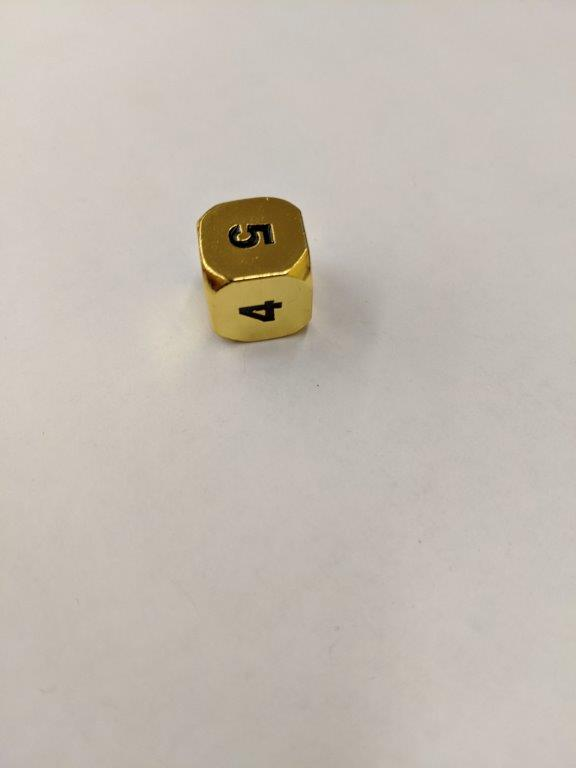d6-5: (196, 192, 317, 349)
